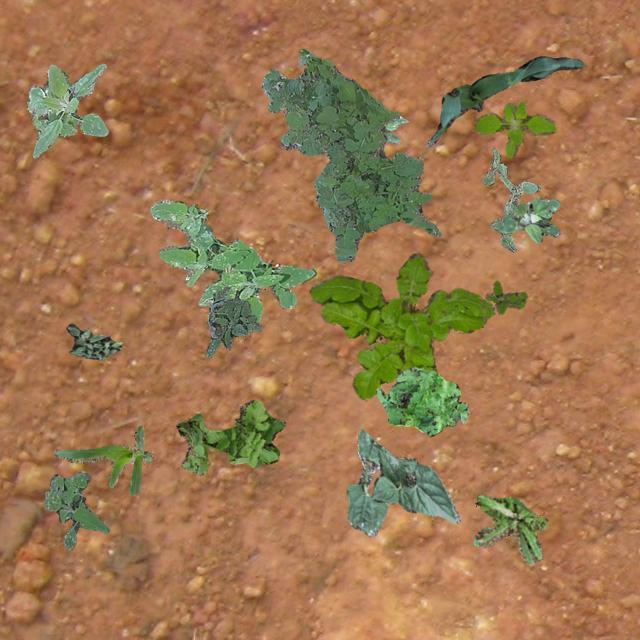crop: (426, 55, 582, 146), (26, 62, 108, 156), (52, 424, 152, 494), (371, 448, 459, 522), (346, 428, 392, 536)
weed: (260, 48, 442, 262), (308, 252, 494, 398), (148, 198, 314, 322), (176, 398, 284, 476), (376, 366, 468, 436), (480, 146, 540, 250), (472, 494, 546, 564), (44, 471, 108, 548), (474, 100, 556, 156), (206, 284, 260, 356), (498, 196, 560, 242), (66, 322, 120, 358), (484, 280, 526, 314), (384, 116, 408, 142)
